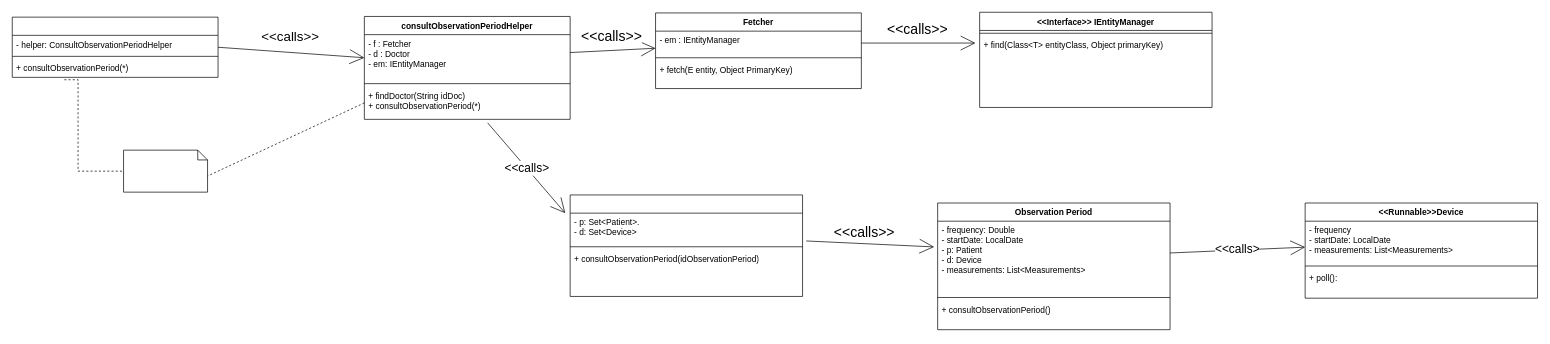
Image size: 1550x344. Some labels were removed from this diagram. The box of each missing label's shape, as (x1, y1, x2, y2) in pixels:
* Params are : idDoc, idObservationPeriod: (123, 149, 208, 192)
ConsultObservationPeriodHandler: (12, 16, 218, 77)
Doctor: (569, 194, 803, 296)
